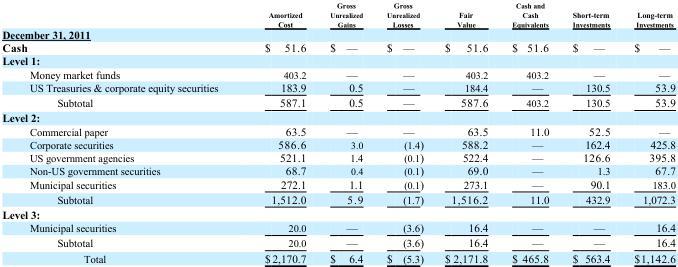table: (1, 0, 674, 263)
table column: (1, 0, 240, 263), (240, 0, 317, 263), (433, 0, 499, 263), (499, 0, 560, 263), (560, 0, 621, 263), (374, 0, 433, 263), (317, 0, 374, 263), (621, 0, 674, 263)
table column header: (1, 0, 674, 28)
table projected row header: (1, 110, 674, 124), (1, 206, 674, 220), (1, 54, 674, 67), (1, 28, 674, 40)
table row: (1, 0, 674, 28), (1, 94, 674, 110), (1, 234, 674, 250), (1, 191, 674, 206), (1, 40, 674, 54), (1, 80, 674, 94), (1, 110, 674, 124), (1, 163, 674, 177), (1, 177, 674, 191), (1, 206, 674, 220), (1, 220, 674, 234), (1, 54, 674, 67), (1, 67, 674, 80), (1, 124, 674, 137), (1, 137, 674, 150), (1, 150, 674, 163), (1, 250, 674, 263), (1, 28, 674, 40)
